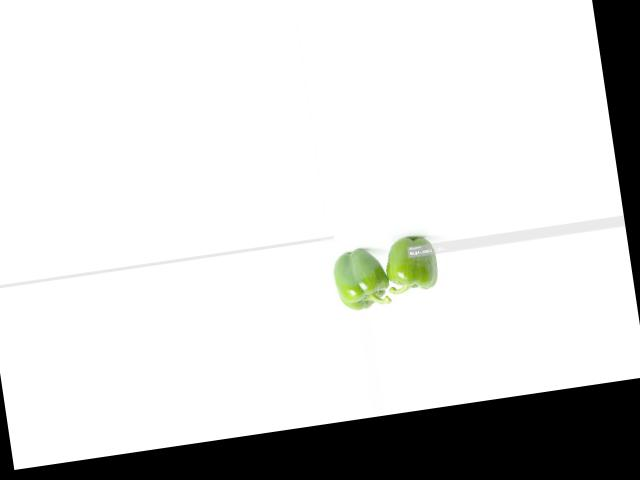bell_pepper: (329, 237, 391, 316)
